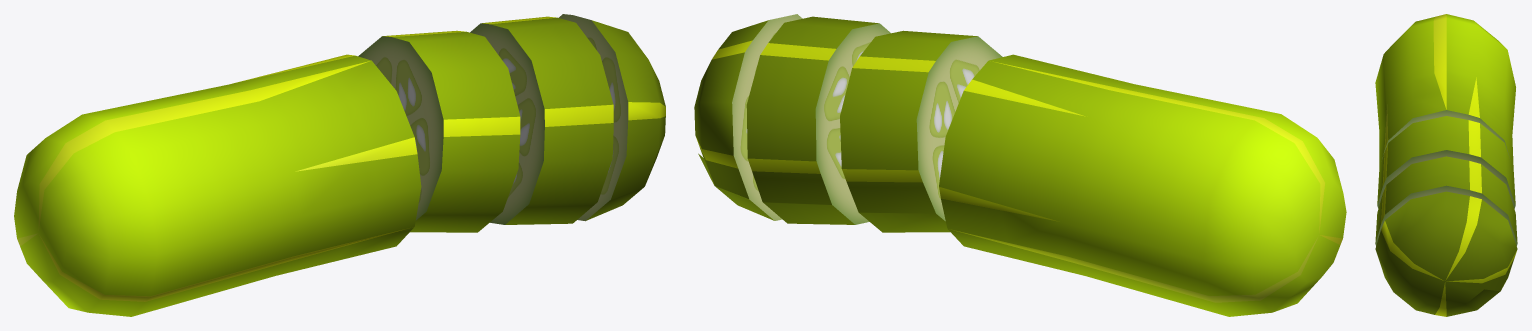
The model's file is Cucumber_01_S3.fbx.
3 views of the same model, side by side, from view 1: azimuth 30°, elevation 25°; view 2: azimuth 150°, elevation 25°; view 3: azimuth 270°, elevation 25° (orthographic). The views are drawn at different scales.
Parts seen in each view (by area): view 1: Cucumber_01_S3; view 2: Cucumber_01_S3; view 3: Cucumber_01_S3.
Boxes of the visible parts, <box> form: Cucumber_01_S3: <box>14,14,665,316</box>; Cucumber_01_S3: <box>694,14,1346,316</box>; Cucumber_01_S3: <box>1375,14,1517,316</box>.
Bounding box in the file's own units: 133 × 43.49 × 39.51.
